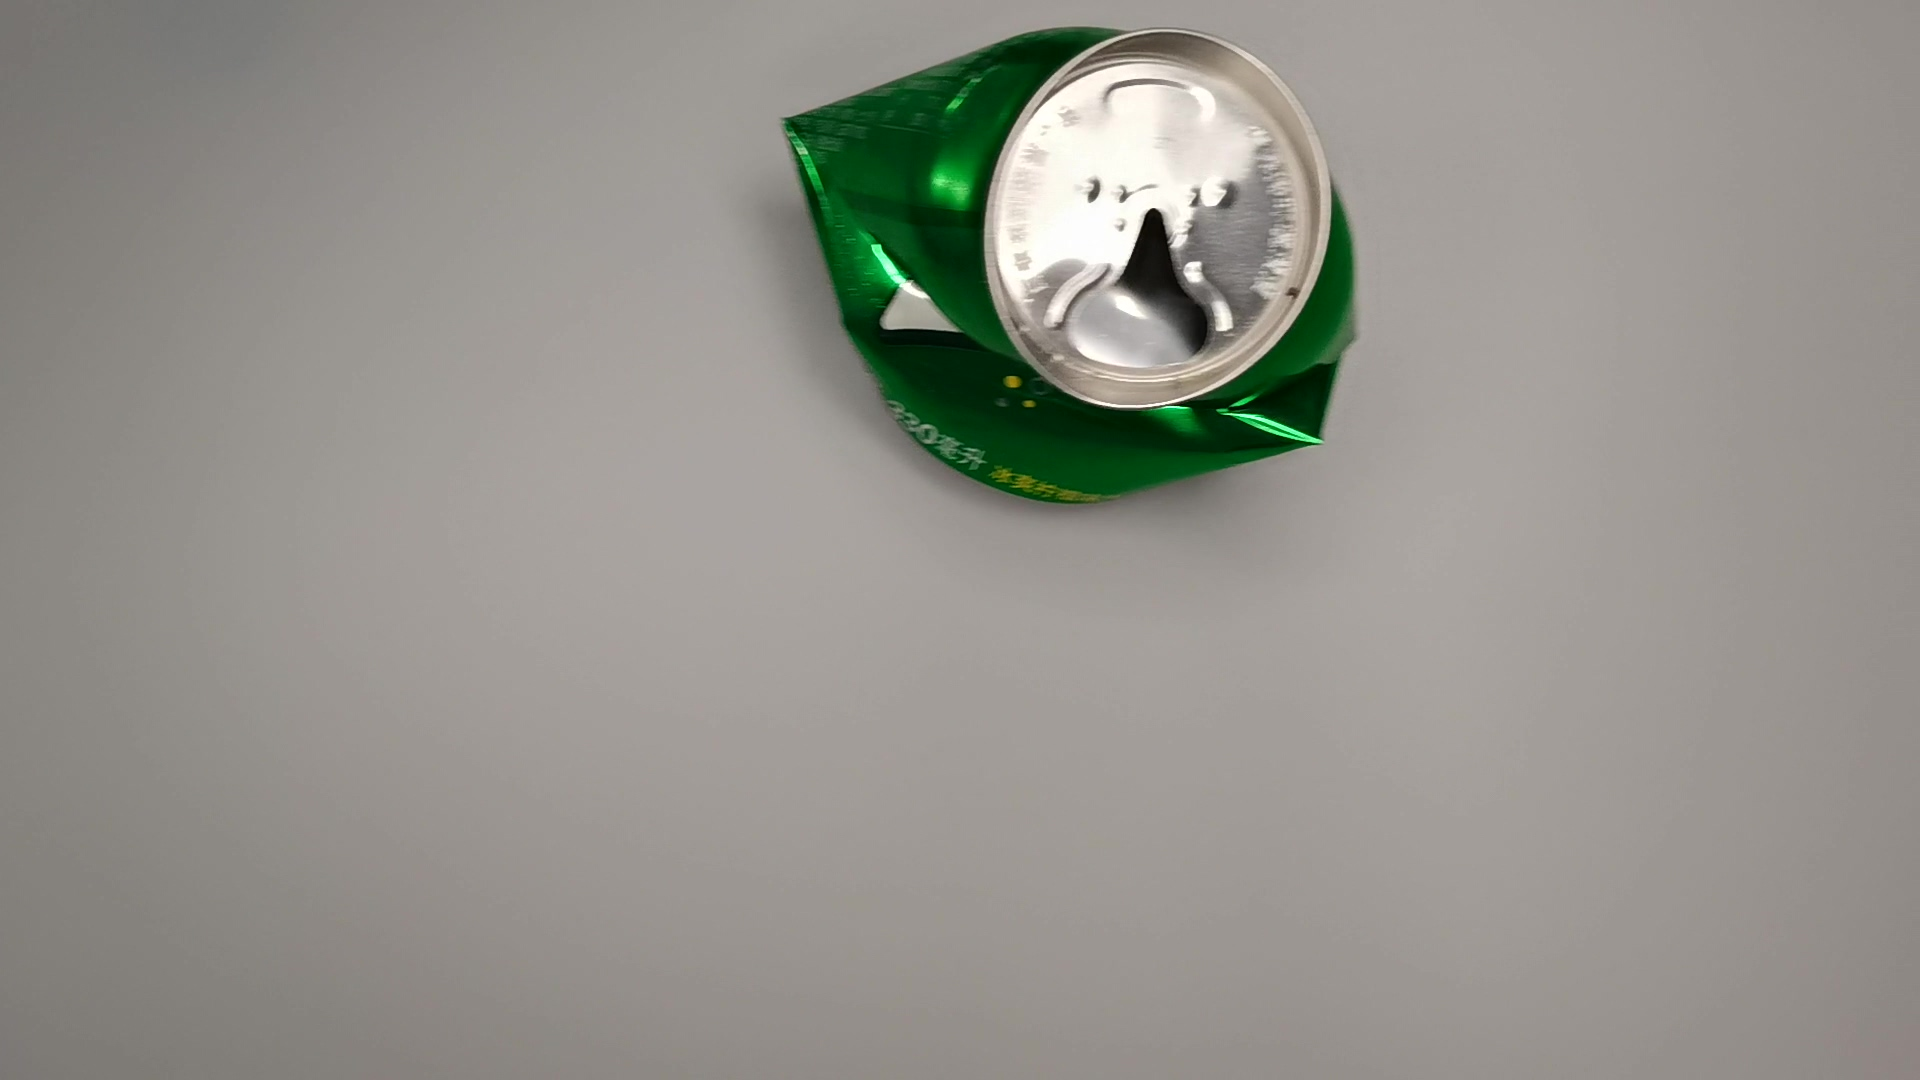can: (770, 15, 1375, 520)
